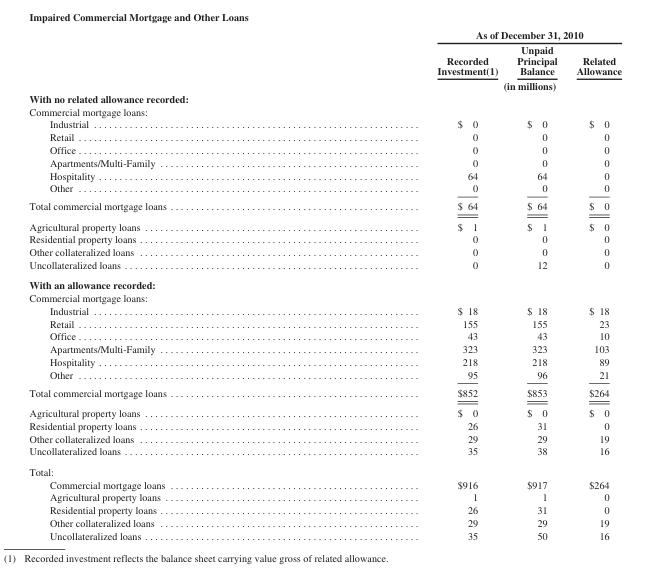table: (28, 28, 621, 540)
table column: (28, 28, 301, 540), (301, 28, 506, 540), (506, 28, 566, 540), (566, 28, 621, 540)
table column header: (28, 28, 621, 91)
table projected row header: (28, 274, 621, 291), (28, 461, 621, 477), (28, 91, 621, 104), (28, 104, 621, 117), (28, 291, 621, 304)
table row: (28, 42, 621, 77), (28, 196, 621, 215), (28, 383, 621, 402), (28, 215, 621, 232), (28, 274, 621, 291), (28, 444, 621, 461), (28, 258, 621, 274), (28, 367, 621, 383), (28, 402, 621, 418), (28, 461, 621, 477), (28, 181, 621, 196), (28, 28, 621, 42), (28, 77, 621, 91), (28, 91, 621, 104), (28, 104, 621, 117), (28, 117, 621, 130), (28, 130, 621, 143), (28, 155, 621, 168), (28, 168, 621, 181), (28, 232, 621, 245), (28, 245, 621, 258), (28, 291, 621, 304), (28, 316, 621, 329), (28, 329, 621, 342), (28, 342, 621, 355), (28, 418, 621, 431), (28, 431, 621, 444), (28, 477, 621, 490), (28, 490, 621, 503), (28, 503, 621, 516), (28, 143, 621, 155), (28, 304, 621, 316), (28, 355, 621, 367), (28, 516, 621, 528), (28, 528, 621, 540)
table spanning cell: (301, 28, 621, 42), (301, 77, 621, 91)
